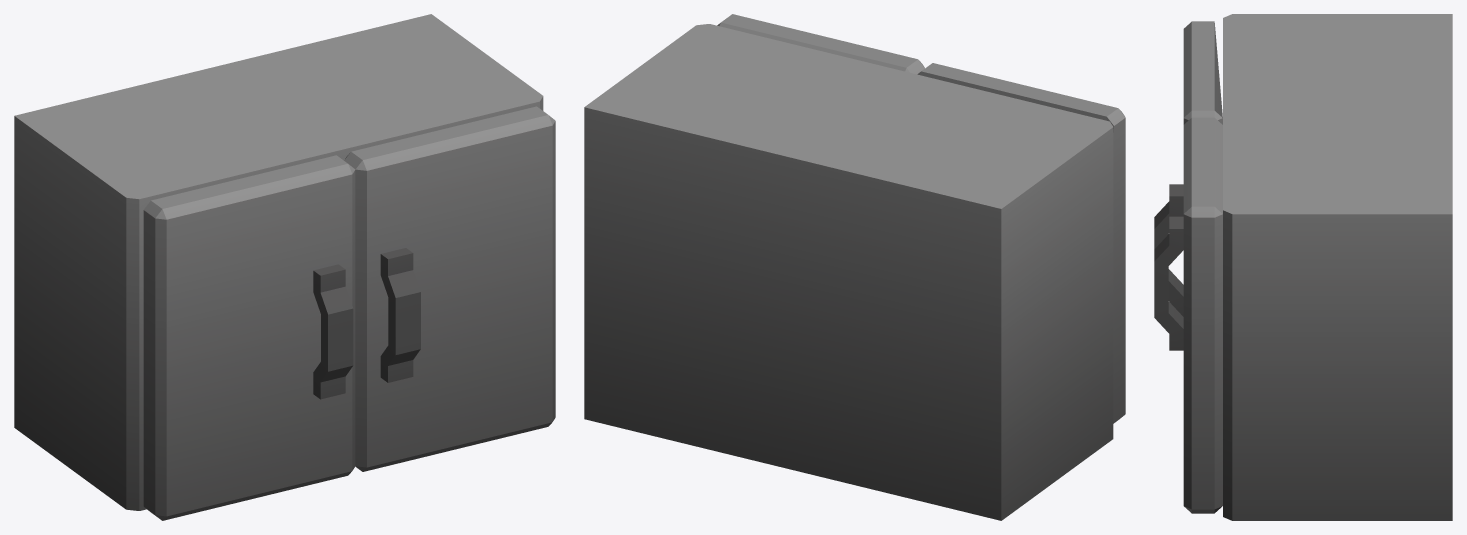
File: Cabinet_01_L.fbx
3 renders of one model, left to right at view 1: azimuth 30°, elevation 25°; view 2: azimuth 150°, elevation 25°; view 3: azimuth 270°, elevation 25°, orthographic.
Parts seen in each view (by area): view 1: Cabinet_01_L, Cabinet_01_L_Door_R, Cabinet_01_L_Door_L; view 2: Cabinet_01_L, Cabinet_01_L_Door_R, Cabinet_01_L_Door_L; view 3: Cabinet_01_L, Cabinet_01_L_Door_L, Cabinet_01_L_Door_R.
Part boxes in pixels (left/top/right/bottom): Cabinet_01_L: left=14, top=14, right=543, bottom=510; Cabinet_01_L_Door_R: left=143, top=155, right=355, bottom=520; Cabinet_01_L_Door_L: left=344, top=106, right=555, bottom=471; Cabinet_01_L: left=584, top=24, right=1113, bottom=520; Cabinet_01_L_Door_R: left=917, top=63, right=1125, bottom=423; Cabinet_01_L_Door_L: left=717, top=14, right=924, bottom=74; Cabinet_01_L: left=1223, top=14, right=1452, bottom=520; Cabinet_01_L_Door_L: left=1154, top=117, right=1222, bottom=513; Cabinet_01_L_Door_R: left=1154, top=21, right=1222, bottom=316.
Bounding box in the file's own units: 100 × 71.44 × 62.96.
